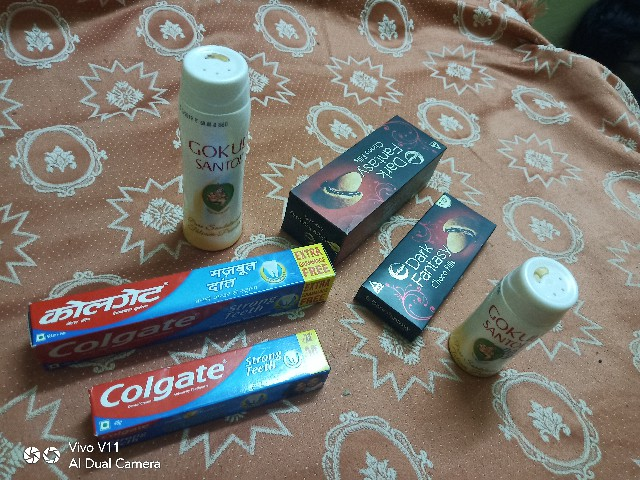colgatetoothpaste big: (13, 238, 361, 363)
colgatetoothpaste small: (79, 329, 378, 437)
darkfantasy big: (269, 109, 456, 245)
darkfantasy small: (359, 188, 496, 340)
gokulsantol big: (164, 40, 259, 251)
gokulsantol small: (443, 255, 596, 386)
